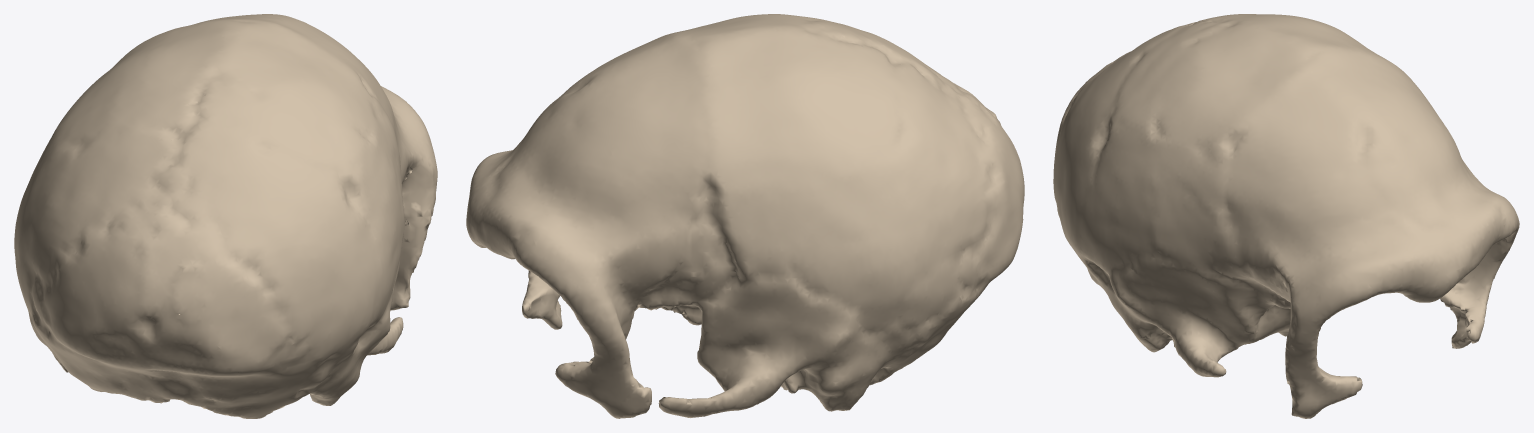
The model's file is la-quina-5.glb.
3 renders of one model, left to right at view 1: azimuth 30°, elevation 25°; view 2: azimuth 150°, elevation 25°; view 3: azimuth 270°, elevation 25°, orthographic. The views are drawn at different scales.
Size of the model in its own units: 0.9995 by 0.7059 by 0.9818.
